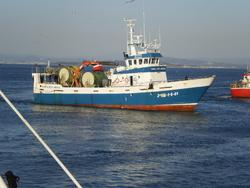otherboat: (28, 16, 219, 110)
